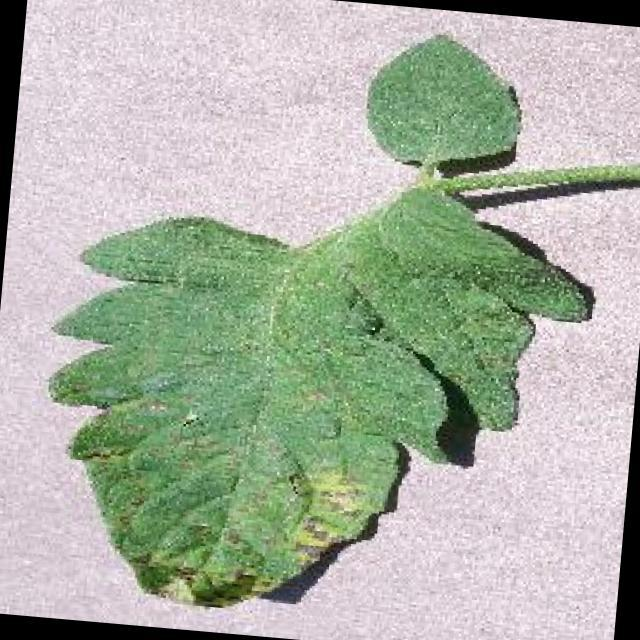Tomato Septoria spot leaf: (26, 164, 600, 640)
Tomato healthy leaf: (365, 30, 530, 174)
